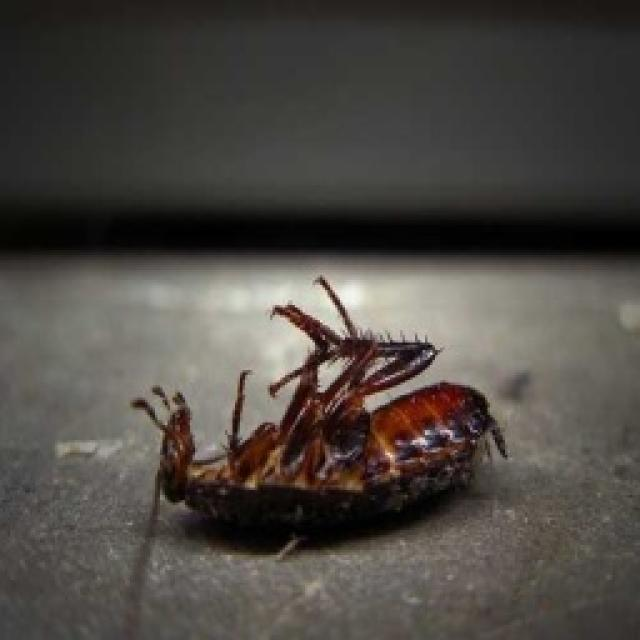cockroach: (126, 271, 514, 550)
